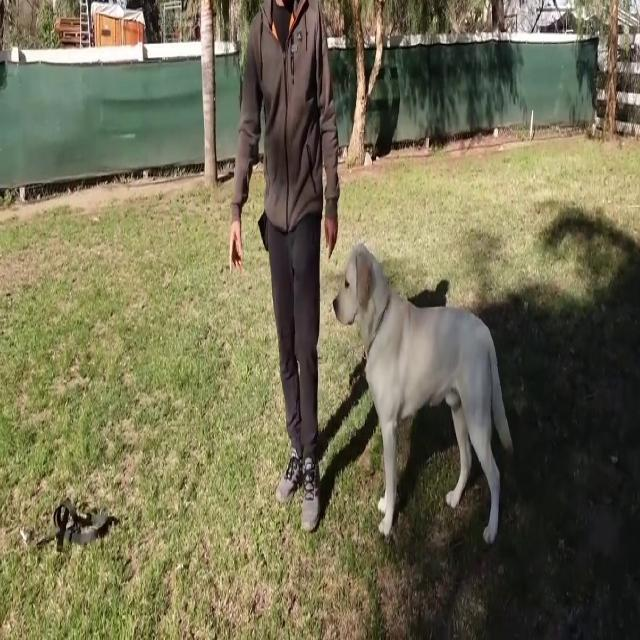Unleashed_Dog: (286, 245, 514, 543)
